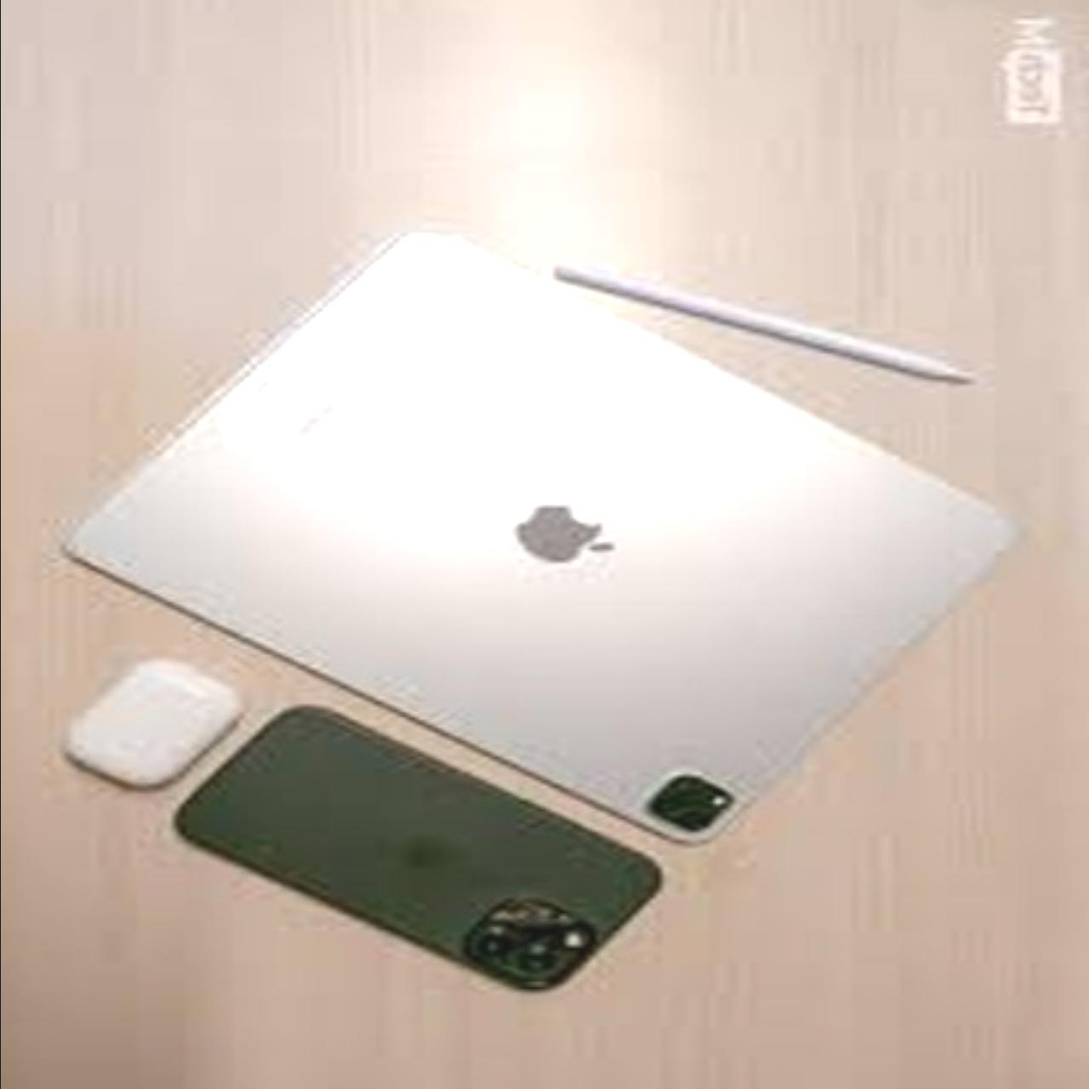Tablet_PC: (58, 199, 1026, 853)
